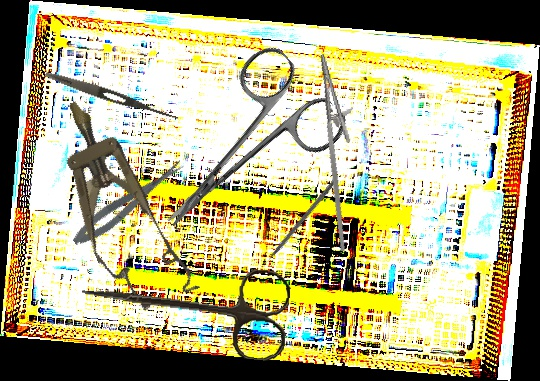Dressing Forceps: (43, 68, 181, 124)
Hook Surgical: (256, 177, 339, 273)
Iris Scissors: (126, 38, 353, 264), (76, 251, 293, 363)
Micro Scissor: (67, 155, 190, 252)
Needle Holder: (295, 50, 385, 252)
Speculum: (34, 85, 201, 322)
